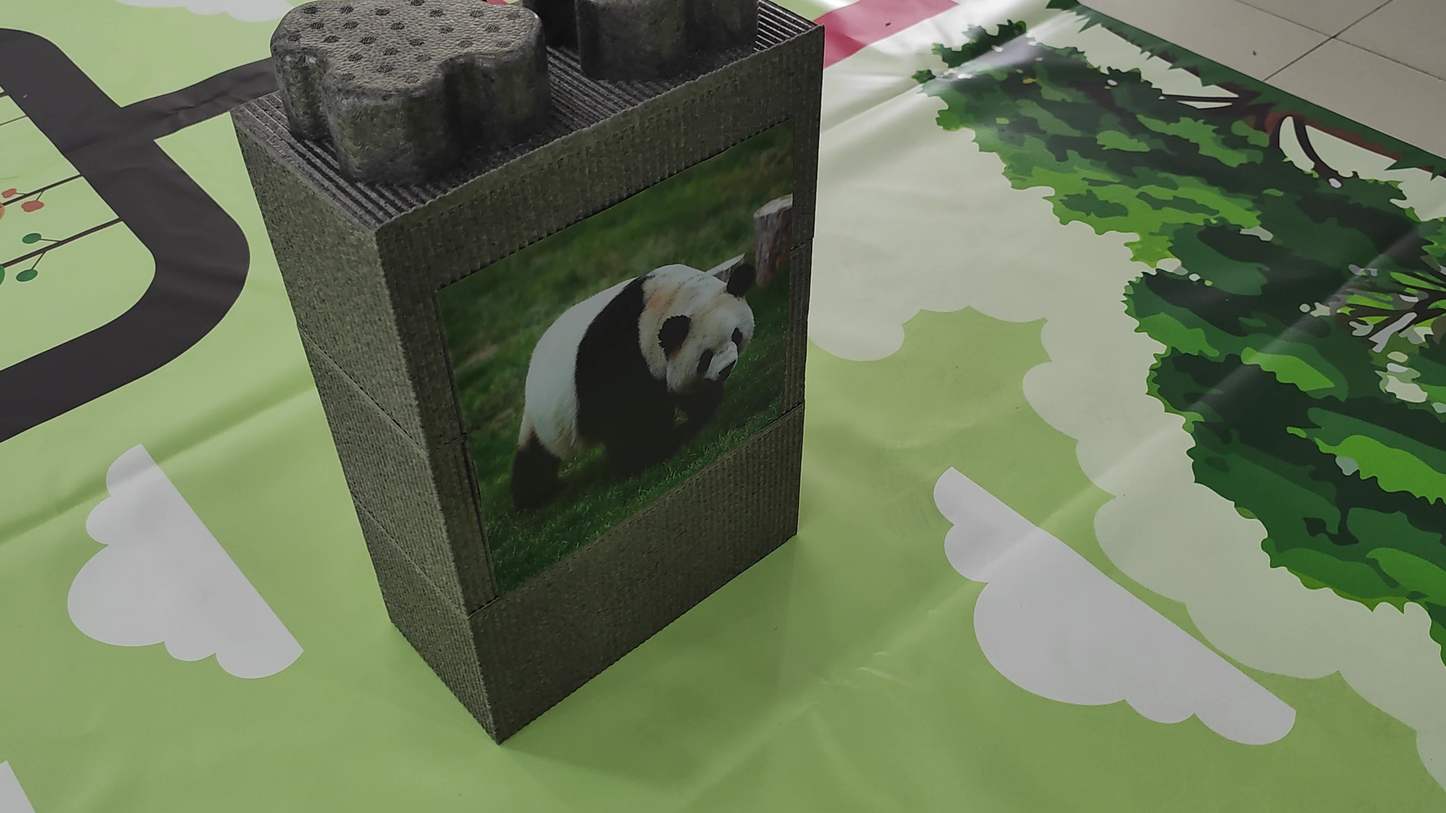panda: (474, 208, 770, 507)
